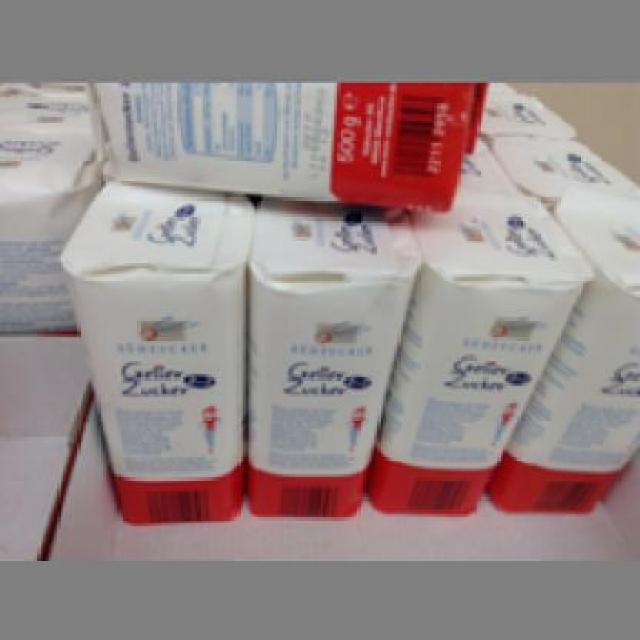Sugar: (374, 192, 586, 514), (56, 177, 250, 523), (248, 194, 418, 517), (77, 79, 483, 212), (494, 192, 637, 514)
